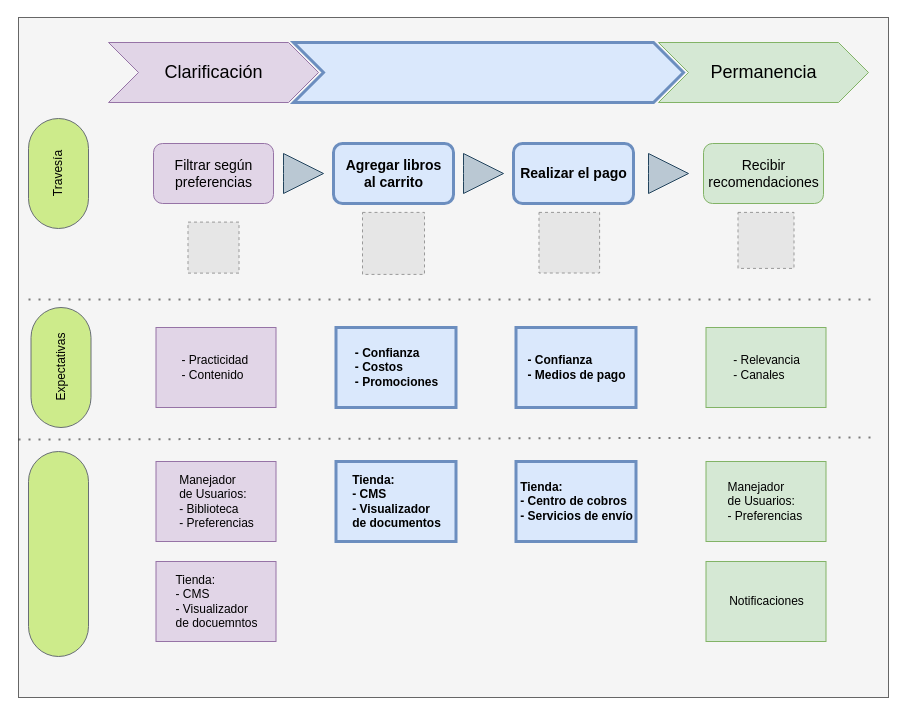
The diagram is 906 pixels wide and 715 high, and some of its shapes have lost their labels. Grey dashed boxes stand in for pictures. Each missing label, with the centre of its shape:
Adquisición: point (488, 72)
Componentes: point (58, 553)
